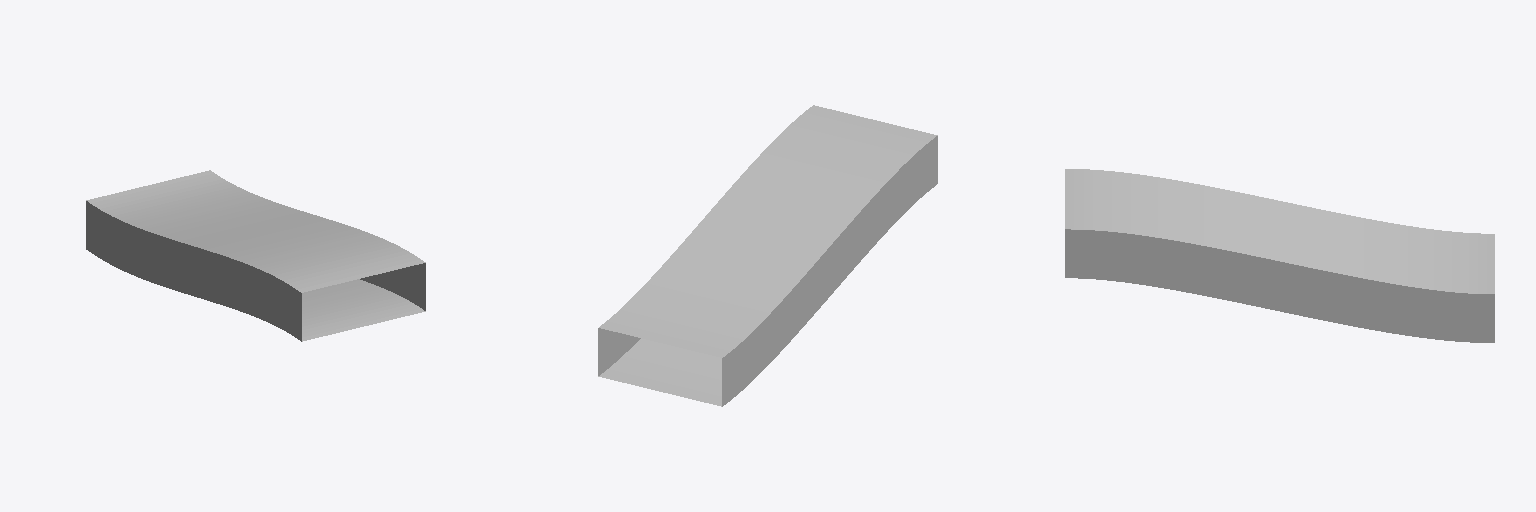
File: RevealingTheGemCurves.obj
The picture shows the model from 3 angles: view 1: azimuth 30°, elevation 25°; view 2: azimuth 150°, elevation 25°; view 3: azimuth 270°, elevation 25°; orthographic projection.
Visible parts, largest first — view 1: Cube.001_Cube.003; view 2: Cube.001_Cube.003; view 3: Cube.001_Cube.003.
Part boxes in pixels (left/top/right/bottom): Cube.001_Cube.003: left=86, top=170, right=425, bottom=341; Cube.001_Cube.003: left=598, top=105, right=937, bottom=406; Cube.001_Cube.003: left=1065, top=169, right=1494, bottom=342.
Size of the model in its own units: 8 by 7 by 24.